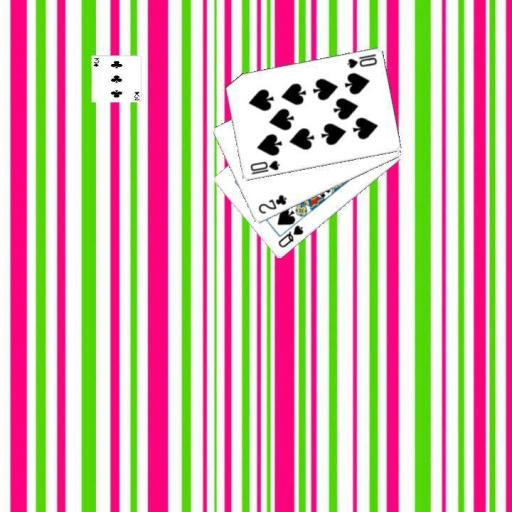card-corner: (275, 222, 305, 249), (255, 192, 288, 216), (344, 51, 378, 70), (247, 158, 281, 176)
